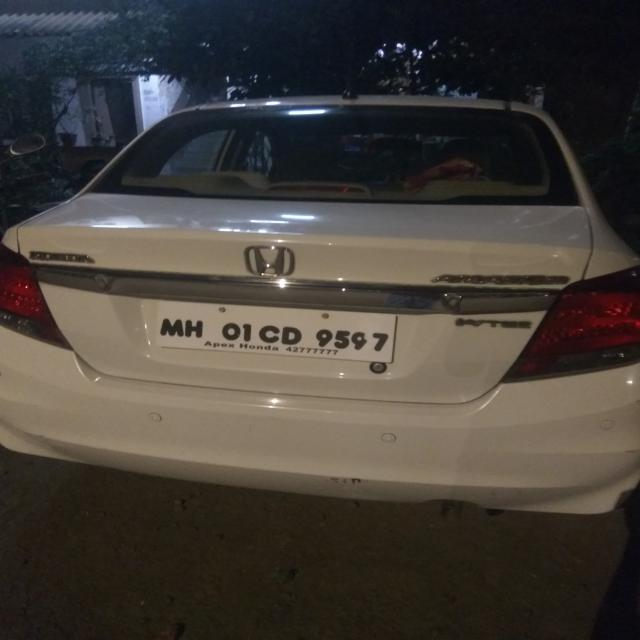Number-Plate: (160, 302, 395, 358)
